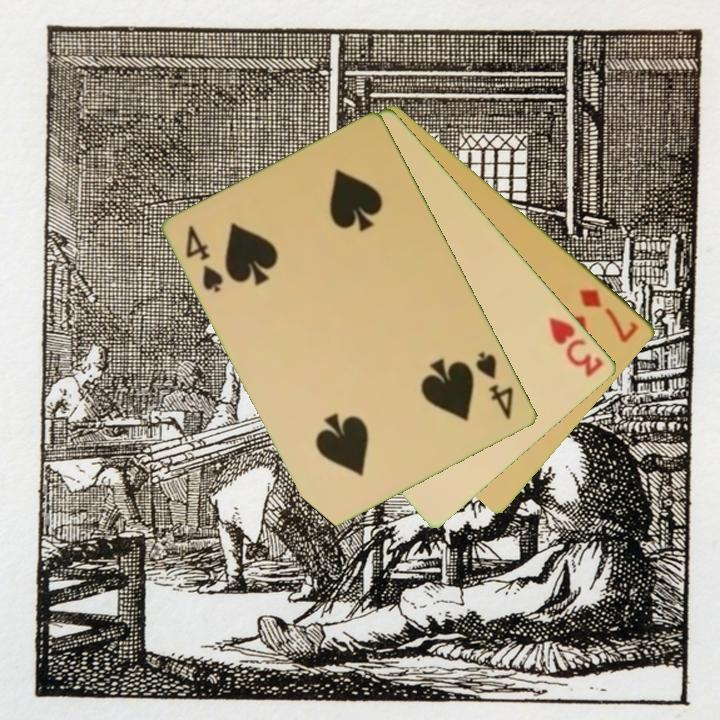3h: (545, 313, 607, 380)
4s: (182, 221, 228, 296), (472, 348, 517, 423)
7d: (576, 285, 642, 346)
